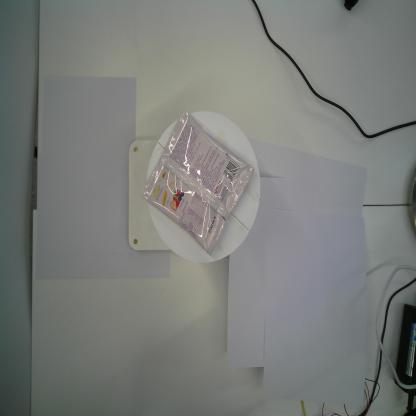Instant Drink: (140, 110, 254, 257)
